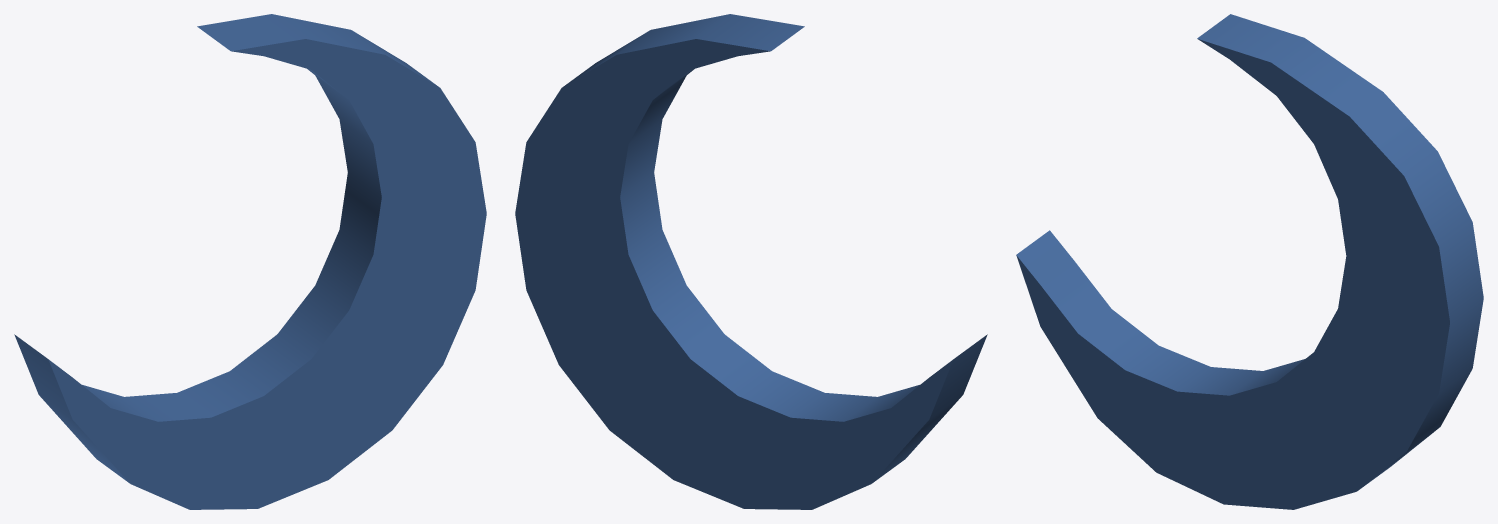
The model's file is 03 moon.FBX.
3 renders of one model, left to right at view 1: azimuth 30°, elevation 25°; view 2: azimuth 150°, elevation 25°; view 3: azimuth 330°, elevation 25°, orthographic.
Parts seen in each view (by area): view 1: SM_Icon_Weather_Moon_01; view 2: SM_Icon_Weather_Moon_01; view 3: SM_Icon_Weather_Moon_01.
Boxes of the visible parts, box(x1,y1,x2,y2) form: SM_Icon_Weather_Moon_01: box(14, 14, 486, 509); SM_Icon_Weather_Moon_01: box(515, 14, 987, 509); SM_Icon_Weather_Moon_01: box(1016, 14, 1483, 509).
Size of the model in its own units: 36.66 by 37.08 by 4.93.
